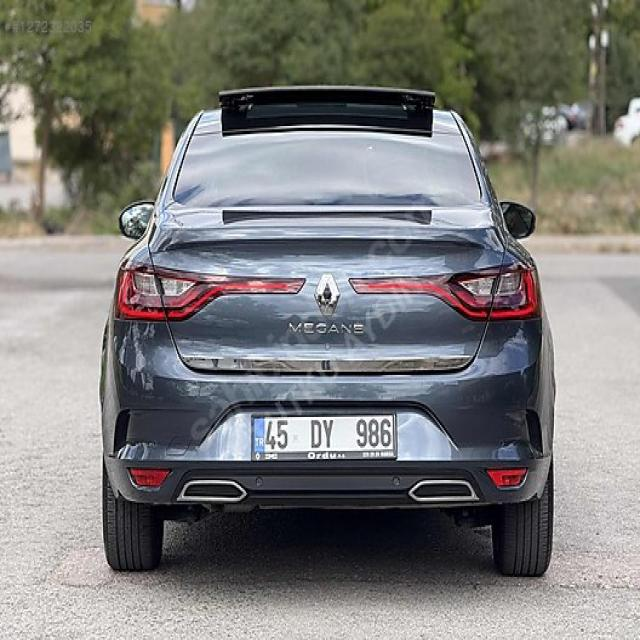renault: (312, 270, 342, 320)
